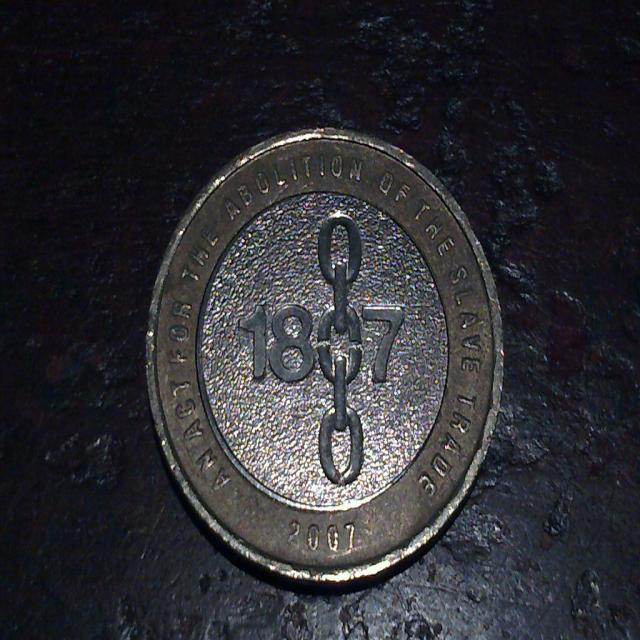Coin: (141, 125, 508, 582)
